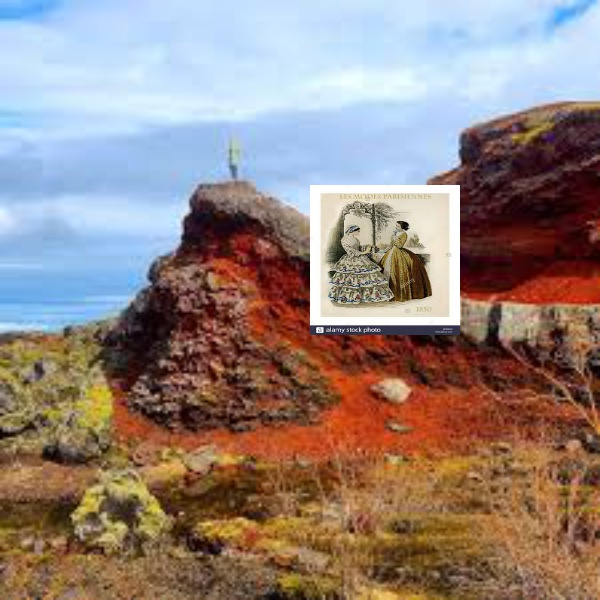time_cover: (299, 175, 468, 332)
